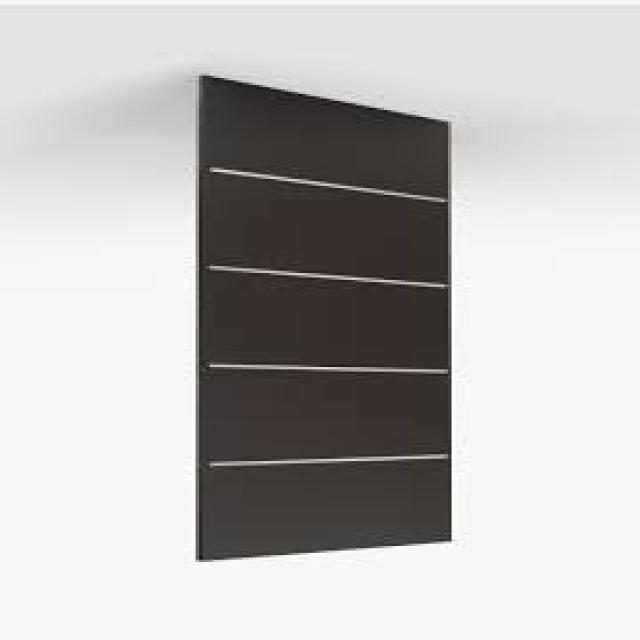door: (194, 75, 453, 563)
